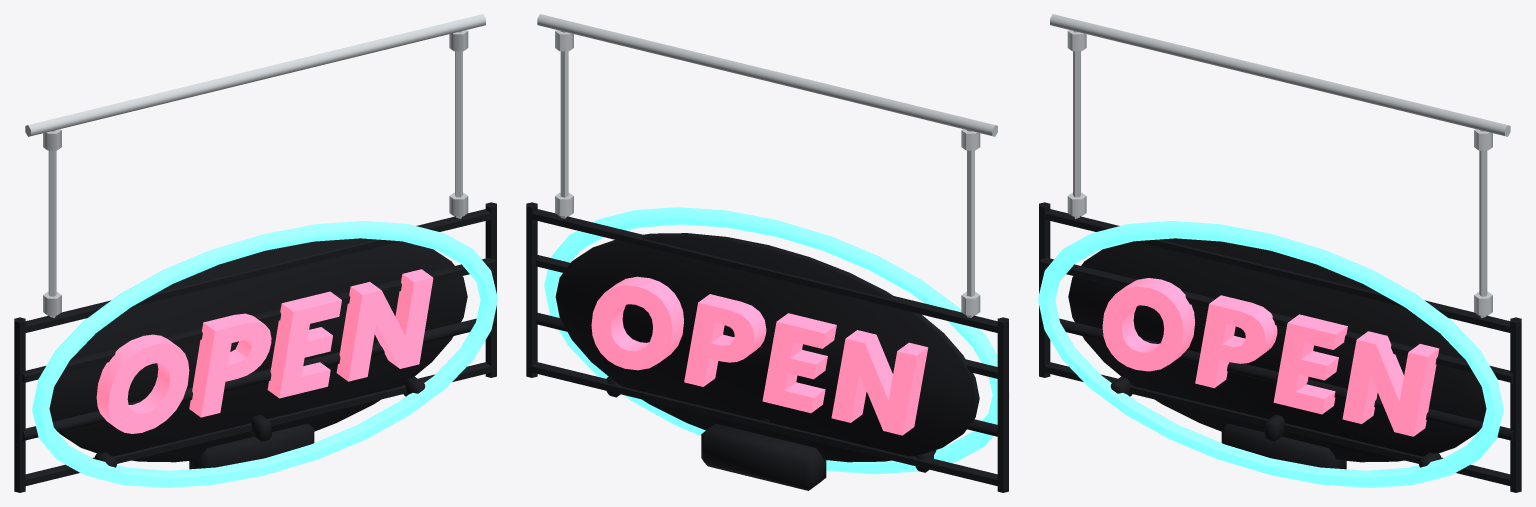
Rendered from Shop_OpenSign.fbx.
3 views of the same model, side by side, from view 1: azimuth 30°, elevation 25°; view 2: azimuth 150°, elevation 25°; view 3: azimuth 330°, elevation 25° (orthographic).
Parts seen in each view (by area): view 1: Frame, Letters, Oval, Wire; view 2: Frame, Letters, Oval, Wire; view 3: Frame, Letters, Oval, Wire.
Part boxes in pixels (bbox=[...]): Frame: bbox=[14, 202, 496, 492]; Letters: bbox=[96, 269, 433, 433]; Oval: bbox=[32, 221, 497, 487]; Wire: bbox=[25, 14, 485, 318]; Frame: bbox=[526, 202, 1008, 492]; Letters: bbox=[591, 276, 928, 435]; Oval: bbox=[544, 207, 1009, 474]; Wire: bbox=[537, 14, 997, 317]; Frame: bbox=[1039, 202, 1521, 492]; Letters: bbox=[1102, 278, 1439, 436]; Oval: bbox=[1038, 221, 1503, 487]; Wire: bbox=[1050, 14, 1510, 318].
Size of the model in its own units: 297 by 237 by 30.84.
